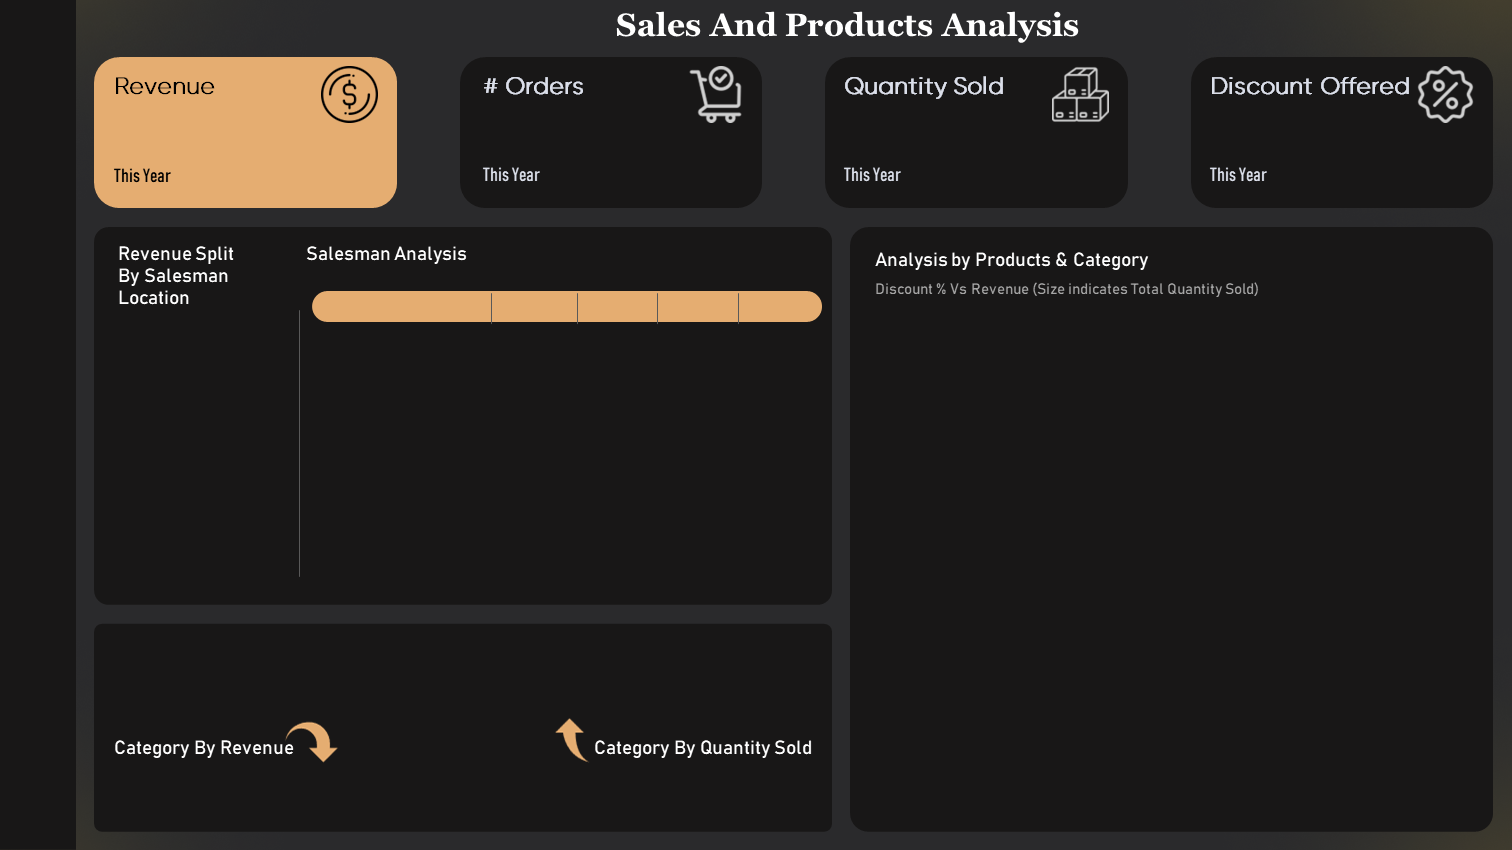

What the dashboard file says about the page in this screenshot:
{"tool":"powerbi","page":{"name":"Sales & Products Analysis","canvas":[1500,850],"ordinal":1},"visuals":[{"type":"stackedAreaChart","fields":{"Y":["Key Measures.Total Discount Offered"],"Category":["date.Date.Variation.Date Hierarchy.Year","date.Date.Variation.Date Hierarchy.Quarter","date.Date.Variation.Date Hierarchy.Month"]},"box":[1326,120,150,80],"z":0},{"type":"stackedAreaChart","fields":{"Y":["Key Measures.Revenue"],"Category":["date.Date.Variation.Date Hierarchy.Year","date.Date.Variation.Date Hierarchy.Quarter","date.Date.Variation.Date Hierarchy.Month"]},"box":[230,120,150,80],"z":1000},{"type":"card","fields":{"Values":["Key Measures.revenue"]},"box":[88,105,300,50],"z":2000},{"type":"card","fields":{"Values":["Key Measures.Total Discount Offered"]},"box":[1185,105,300,50],"z":3000},{"type":"pivotTable","fields":{"Rows":["employees.title","employees.employeeName"],"Values":["Key Measures.Revenue","Key Measures.Total Discount Offered","Key Measures.Number of Orders","Key Measures.Total Quantity"]},"box":[297.1,285.7,517.1,308.6],"z":4000},{"type":"donutChart","fields":{"Y":["Key Measures.Revenue"],"Category":["employees.city"]},"box":[91.4,308.6,194.3,285.7],"z":5000},{"type":"stackedAreaChart","fields":{"Y":["Key Measures.Number of Orders"],"Category":["date.Date.Variation.Date Hierarchy.Year","date.Date.Variation.Date Hierarchy.Quarter","date.Date.Variation.Date Hierarchy.Month"]},"box":[595,120,150,80],"z":6000},{"type":"card","fields":{"Values":["Key Measures.Number of Orders"]},"box":[450,105,300,50],"z":7000},{"type":"stackedAreaChart","fields":{"Y":["Key Measures.Total Quantity"],"Category":["date.Date.Variation.Date Hierarchy.Year","date.Date.Variation.Date Hierarchy.Quarter","date.Date.Variation.Date Hierarchy.Month"]},"box":[960,120,150,80],"z":8000},{"type":"card","fields":{"Values":["Key Measures.Total Quantity"]},"box":[820,105,300,50],"z":9000},{"type":"hundredPercentStackedBarChart","fields":{"Y":["Key Measures.Revenue"],"Series":["categories.categoryName"]},"box":[104.3,761.4,710,61.4],"z":10000},{"type":"hundredPercentStackedBarChart","fields":{"Series":["categories.categoryName"],"Y":["Key Measures.Total Quantity"]},"box":[104.3,632.9,710,81.4],"z":11000},{"type":"kpi","fields":{"Indicator":["Key Measures.Revenue"],"Goal":["Key Measures.Revenue LY"],"TrendLine":["date.year"]},"box":[88,157,230,50],"z":12000},{"type":"kpi","fields":{"TrendLine":["date.year"],"Indicator":["Key Measures.Number of Orders"],"Goal":["Key Measures.Orders LY"]},"box":[450,157,230,50],"z":13000},{"type":"kpi","fields":{"TrendLine":["date.year"],"Indicator":["Key Measures.Total Quantity"],"Goal":["Key Measures.Quantity LY"]},"box":[820,157,230,50],"z":14000},{"type":"kpi","fields":{"TrendLine":["date.year"],"Indicator":["Key Measures.Total Discount Offered"],"Goal":["Key Measures.Discount LY"]},"box":[1185,157,230,50],"z":15000},{"type":"scatterChart","fields":{"Series":["categories.categoryName"],"X":["Key Measures.Revenue"],"Y":["Key Measures.Total Discount Offered"],"Size":["Key Measures.Total Quantity"],"Category":["categories.categoryName","products.productName"]},"box":[858.6,298.6,614.3,524.3],"z":16000},{"type":"image","box":[5.7,11.4,55.7,55.7],"z":17000},{"type":"image","box":[5.7,647.1,55.7,55.7],"z":18000},{"type":"image","box":[5.7,714.3,55.7,55.7],"z":19000},{"type":"image","box":[5.7,782.9,55.7,55.7],"z":20000}]}

Visuals, with their boxes in screenshot pixels (x1, y1, x2, y2), scaled from the page's 1500x850 canvas onto the 1512x850 screenshot:
stackedAreaChart - Key Measures.Total Discount Offered x date.Date.Variation.Date Hierarchy.Year: 1337 120 1488 200
stackedAreaChart - Key Measures.Revenue x date.Date.Variation.Date Hierarchy.Year: 232 120 383 200
card - Key Measures.revenue: 89 105 391 155
card - Key Measures.Total Discount Offered: 1194 105 1497 155
pivotTable - employees.title x employees.employeeName: 299 286 821 594
donutChart - Key Measures.Revenue x employees.city: 92 309 288 594
stackedAreaChart - Key Measures.Number of Orders x date.Date.Variation.Date Hierarchy.Year: 600 120 751 200
card - Key Measures.Number of Orders: 454 105 756 155
stackedAreaChart - Key Measures.Total Quantity x date.Date.Variation.Date Hierarchy.Year: 968 120 1119 200
card - Key Measures.Total Quantity: 827 105 1129 155
hundredPercentStackedBarChart - Key Measures.Revenue x categories.categoryName: 105 761 821 823
hundredPercentStackedBarChart - categories.categoryName x Key Measures.Total Quantity: 105 633 821 714
kpi - Key Measures.Revenue x Key Measures.Revenue LY: 89 157 321 207
kpi - date.year x Key Measures.Number of Orders: 454 157 685 207
kpi - date.year x Key Measures.Total Quantity: 827 157 1058 207
kpi - date.year x Key Measures.Total Discount Offered: 1194 157 1426 207
scatterChart - categories.categoryName x Key Measures.Revenue: 865 299 1485 823
image: 6 11 62 67
image: 6 647 62 703
image: 6 714 62 770
image: 6 783 62 839
